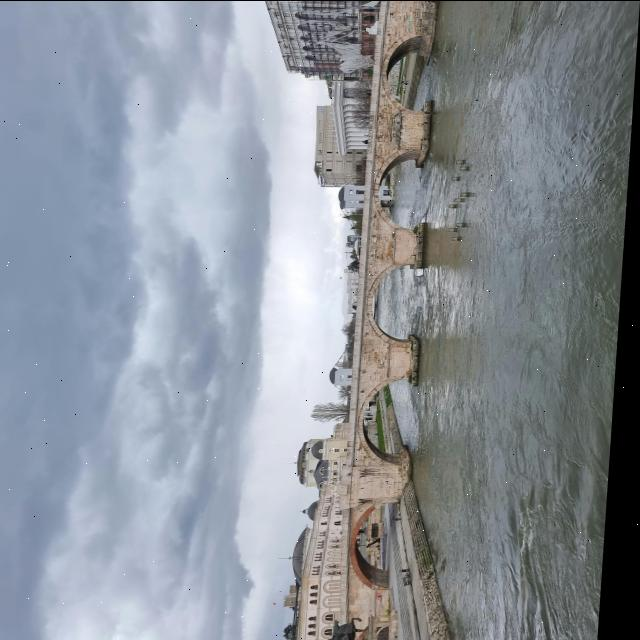Stone Bridge: (309, 0, 480, 640)
